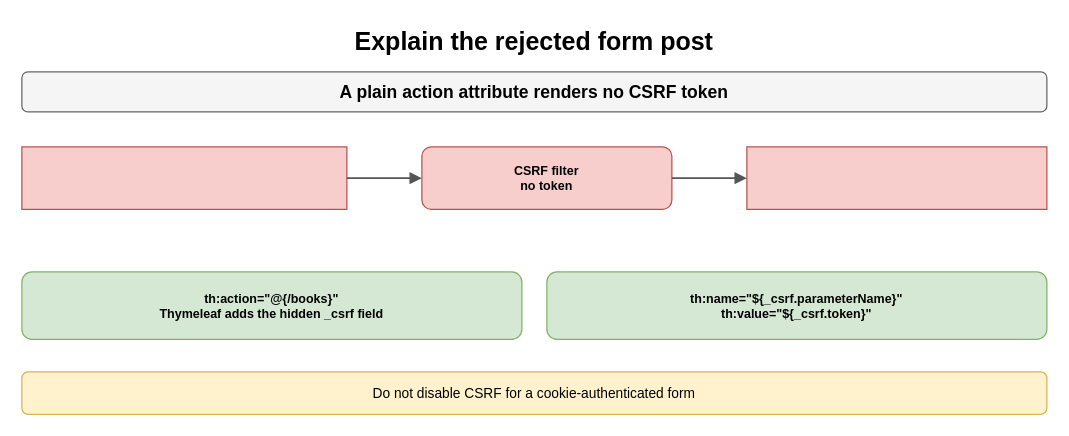
Image size: 1069x436. Some labels were removed from this diagram. The centre of each missing label's shape, as x and y in pixels:
403 for logged-in users: pixel 896 177
<form method="post" action="/books">: pixel 184 177
